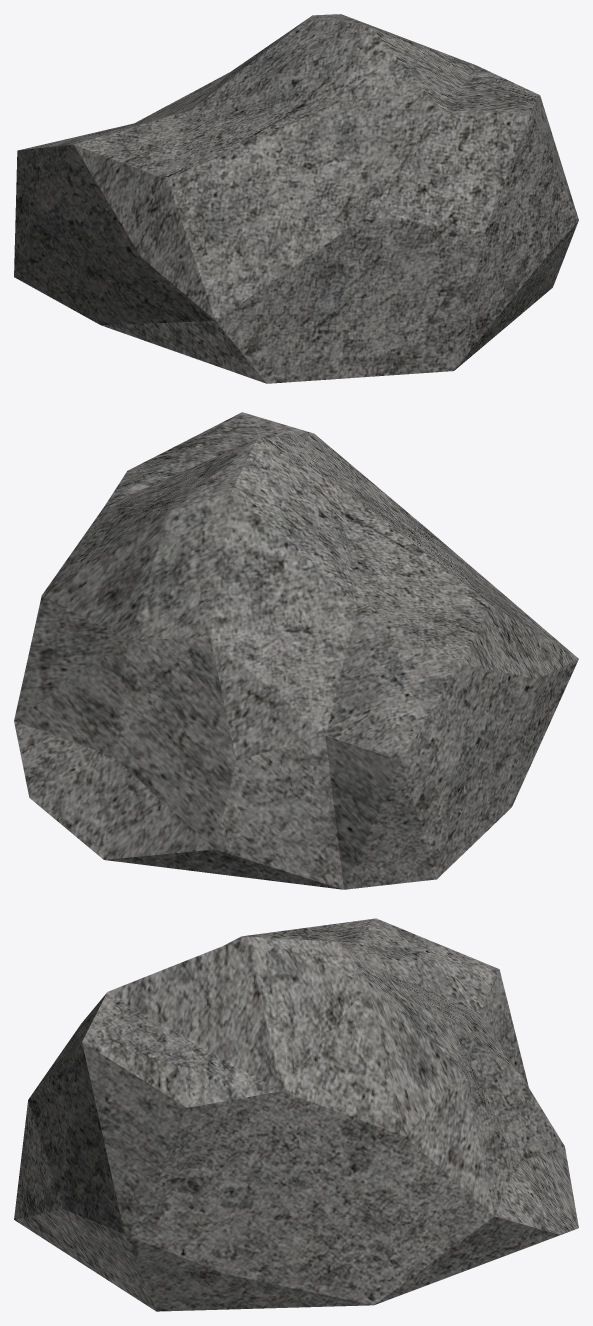
File: roccia_2.fbx
3 renders of one model, top to bottom at view 1: azimuth 30°, elevation 25°; view 2: azimuth 150°, elevation 25°; view 3: azimuth 270°, elevation 25°, orthographic. The views are drawn at different scales.
Parts seen in each view (by area): view 1: roccia_2; view 2: roccia_2; view 3: roccia_2.
Part boxes in pixels (x1=…): roccia_2: x1=14, y1=14, x2=578, y2=383; roccia_2: x1=14, y1=412, x2=578, y2=889; roccia_2: x1=14, y1=918, x2=578, y2=1311.
Size of the model in its own units: 58.78 by 36.15 by 62.19.
